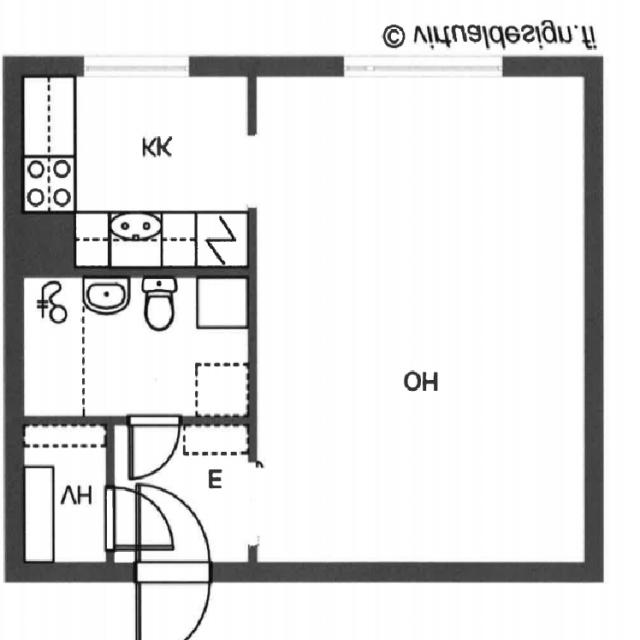door: (138, 484, 210, 581), (138, 562, 210, 640), (106, 486, 175, 549), (131, 416, 180, 478)
